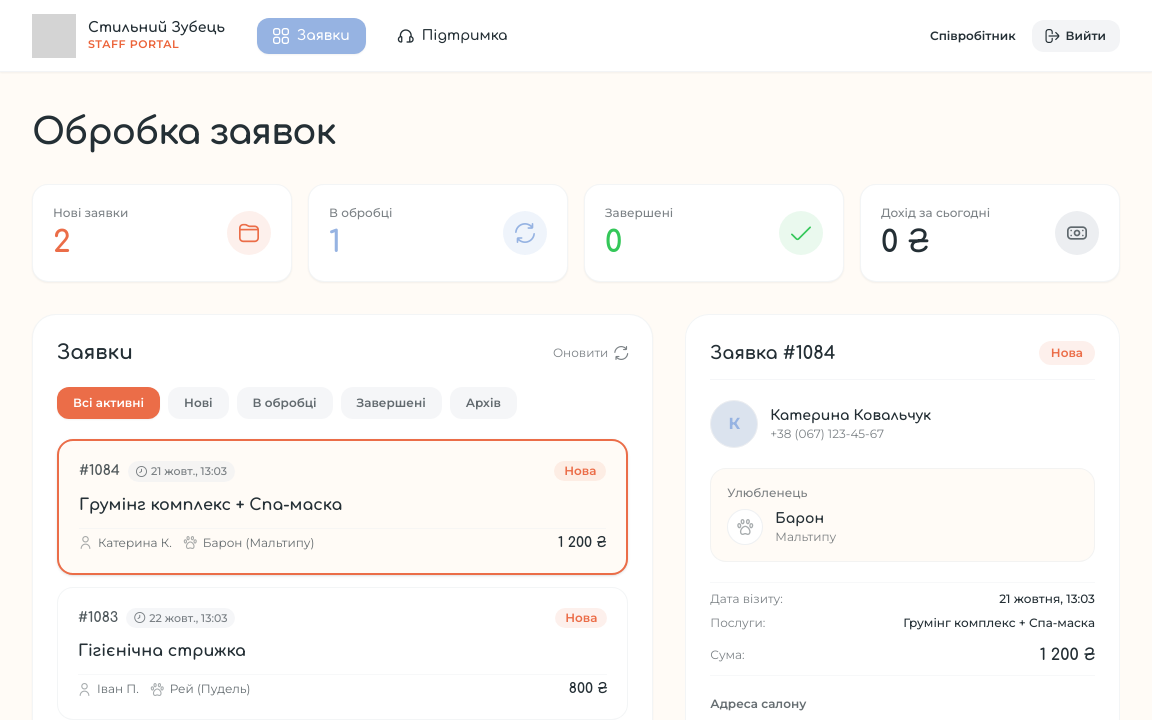
Test: RequestProcessingPage › filters requests when filter tabs are clicked
Click the tab "Нові" at x=198, y=403, box [168,387,229,419]
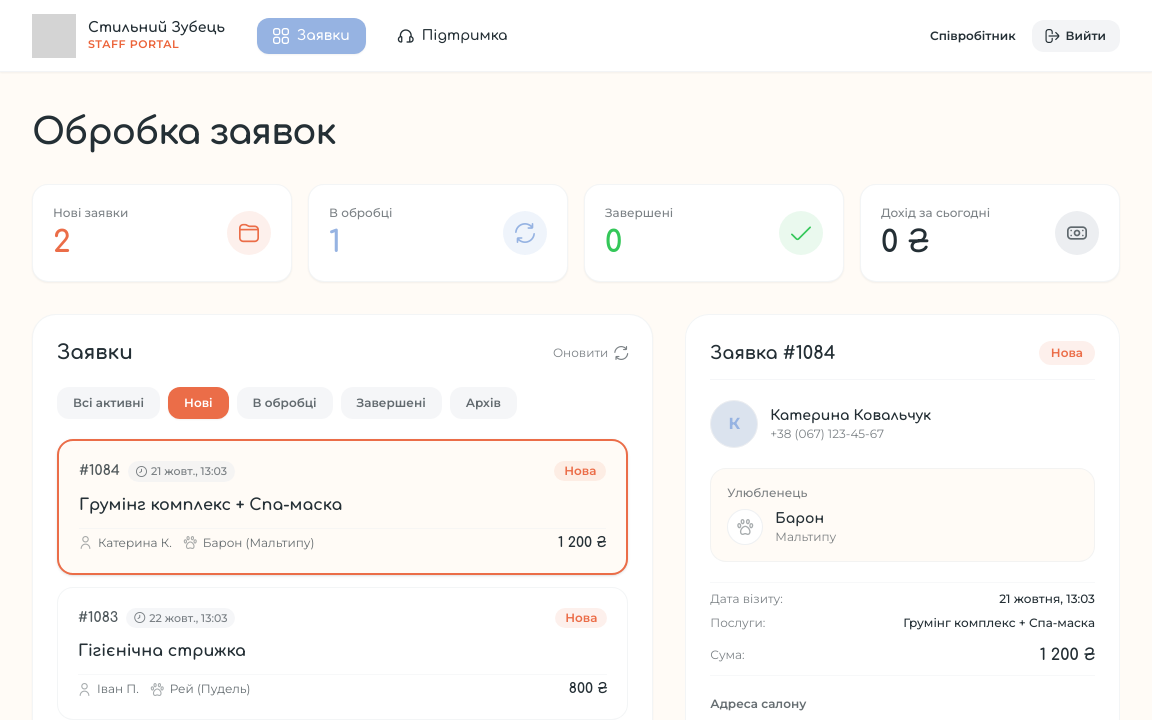
Expected: the text "#1084" is shown, [79,461,120,481]
Expected: the text "#1083" is shown, [78,608,118,628]
Click the tab "В обробці" at x=285, y=403, box [237,387,333,419]
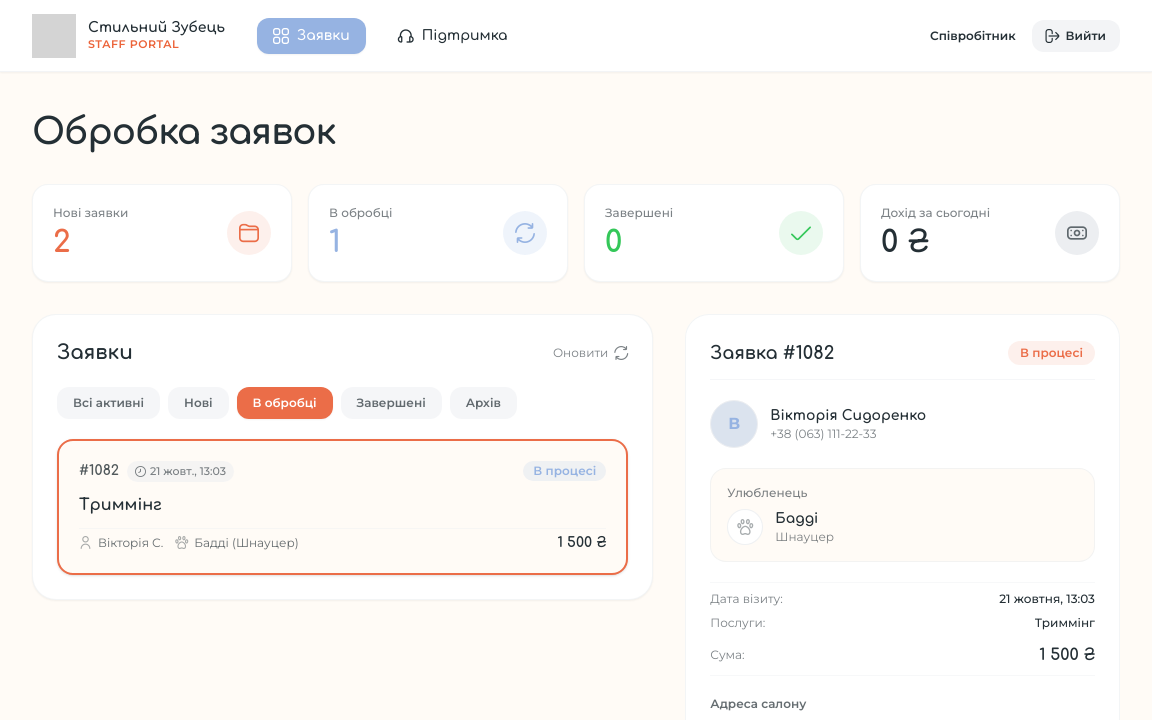
Now the text "#1082" is shown, box [79,461,119,481]
Now the button "#1084" is gone
Click the tab "Завершені" at x=391, y=403, box [341,387,442,419]
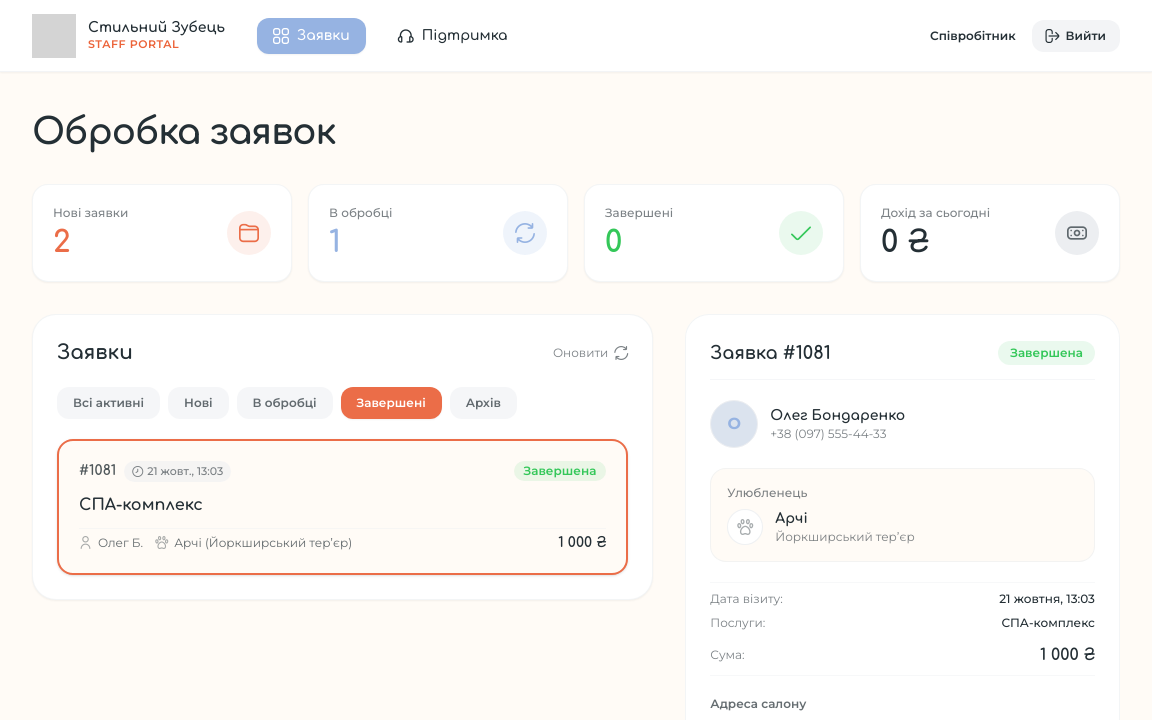
Expected: the button "#1084" is not shown
Now the text "#1081" is shown, box [79,461,116,481]
